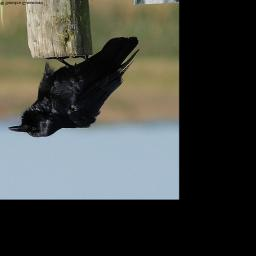Crow: (8, 35, 142, 138)
